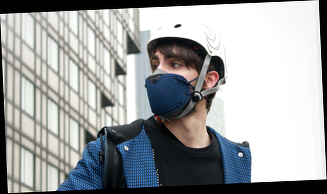with_mask: (145, 52, 201, 120)
